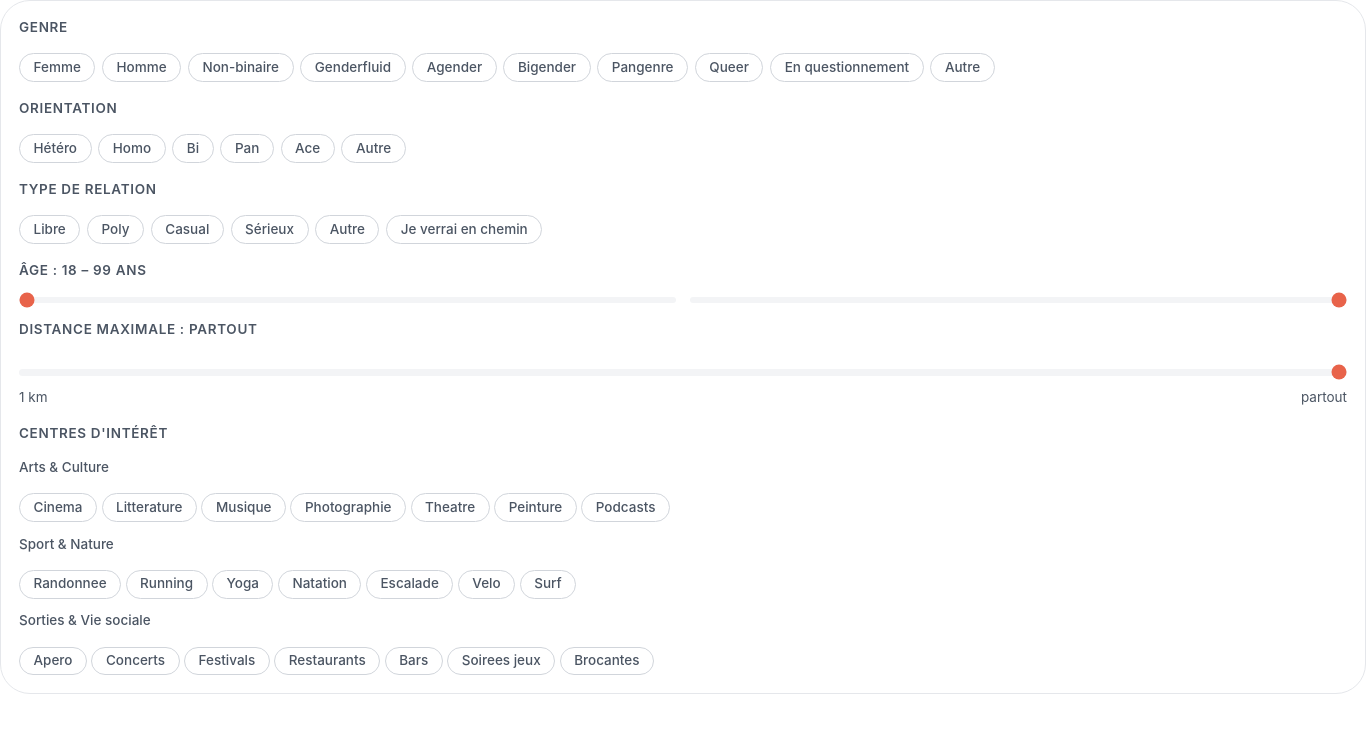
Test: <SearchFilters /> — réciprocité (#519) › la pose fusionne les critères pendus aux critères posés, sans doublon
Note: Deux critères pendus, la déclaration se fait, le pose fusionne les deux.
Click the button "Femme" at (57, 68), box [19,53,95,82]
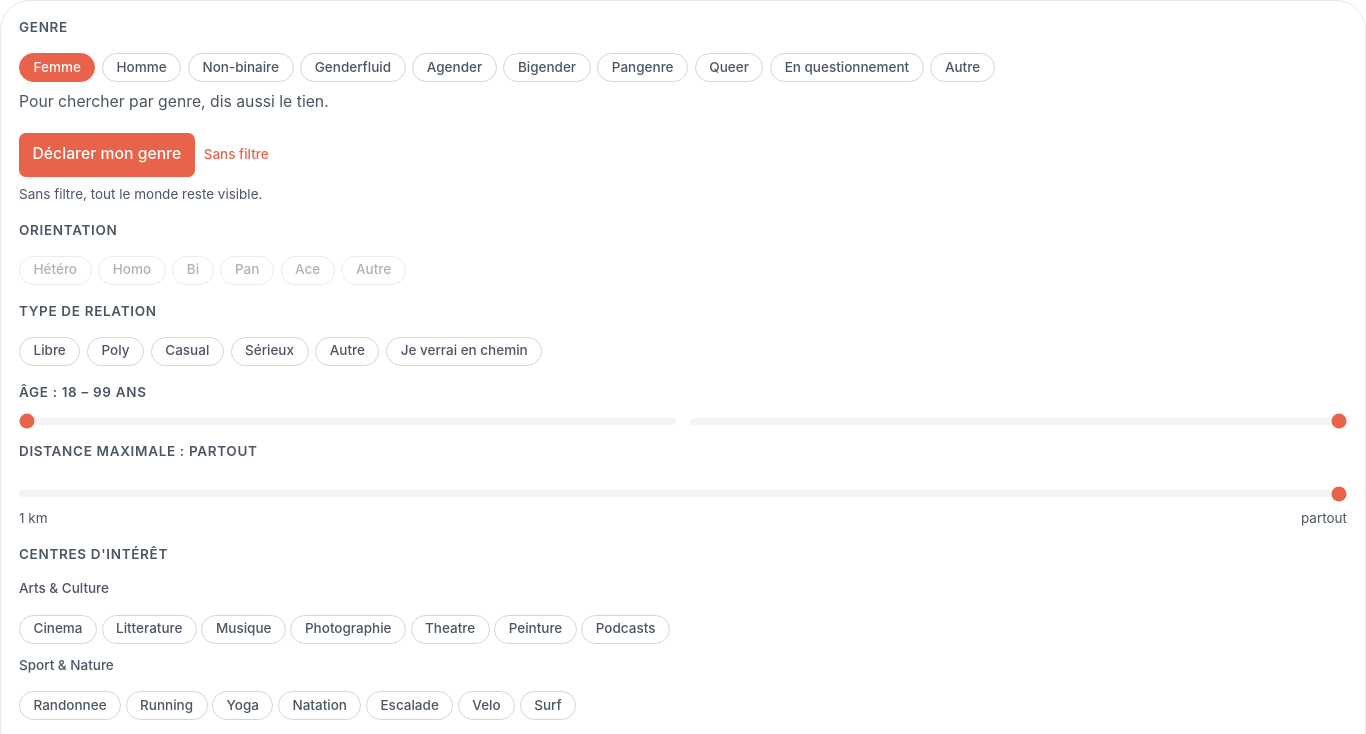
Click the button "Homme" at (142, 68), box [102,53,181,82]
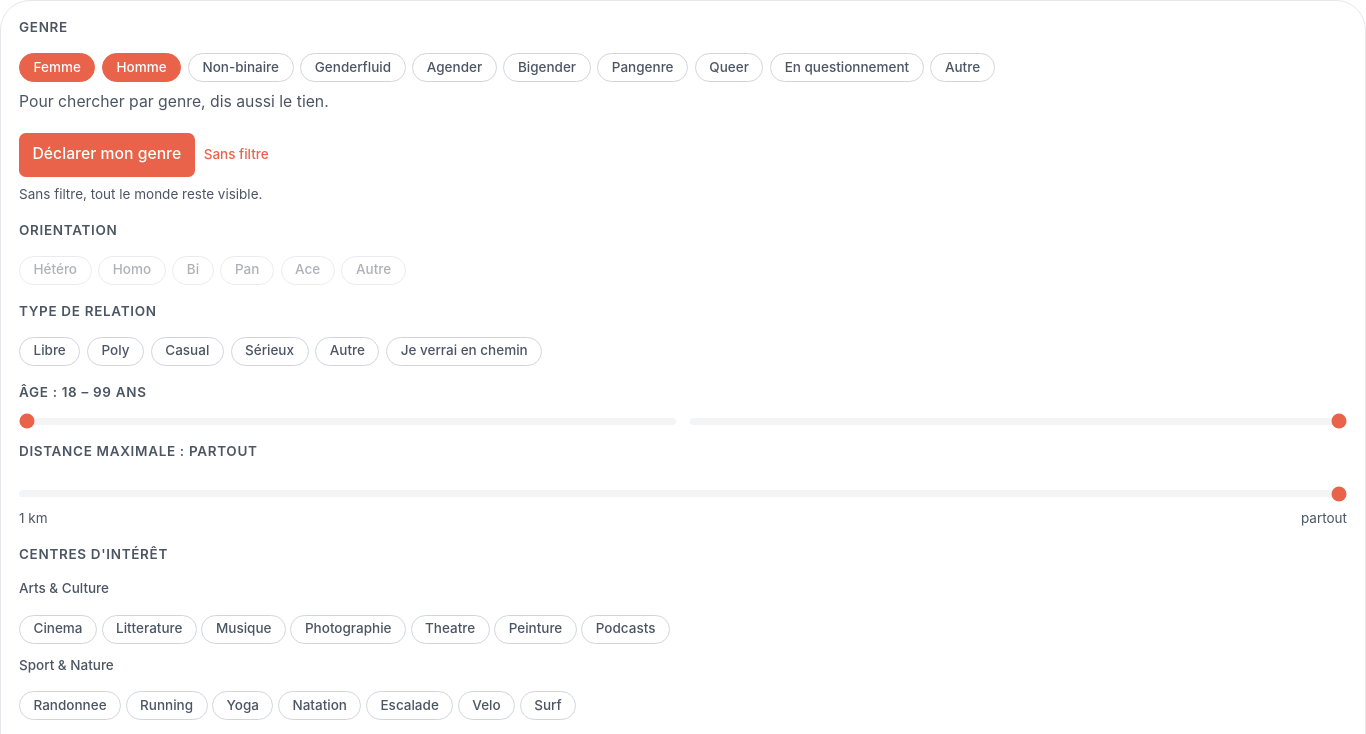
Click the button "Déclarer mon genre" at (107, 154), box [19,132,195,176]
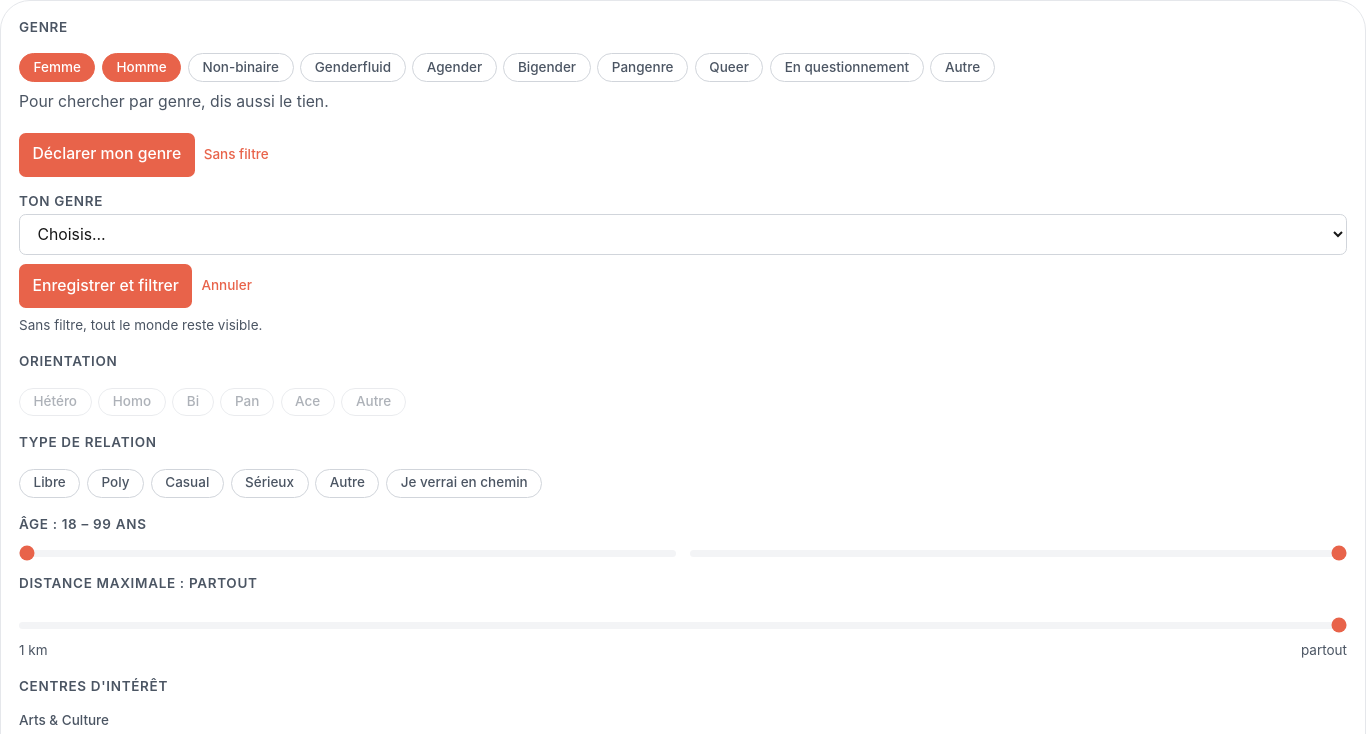
Select "Femme" in the dropdown labelled "Ton genre" at (683, 235), box [19,214,1347,255]
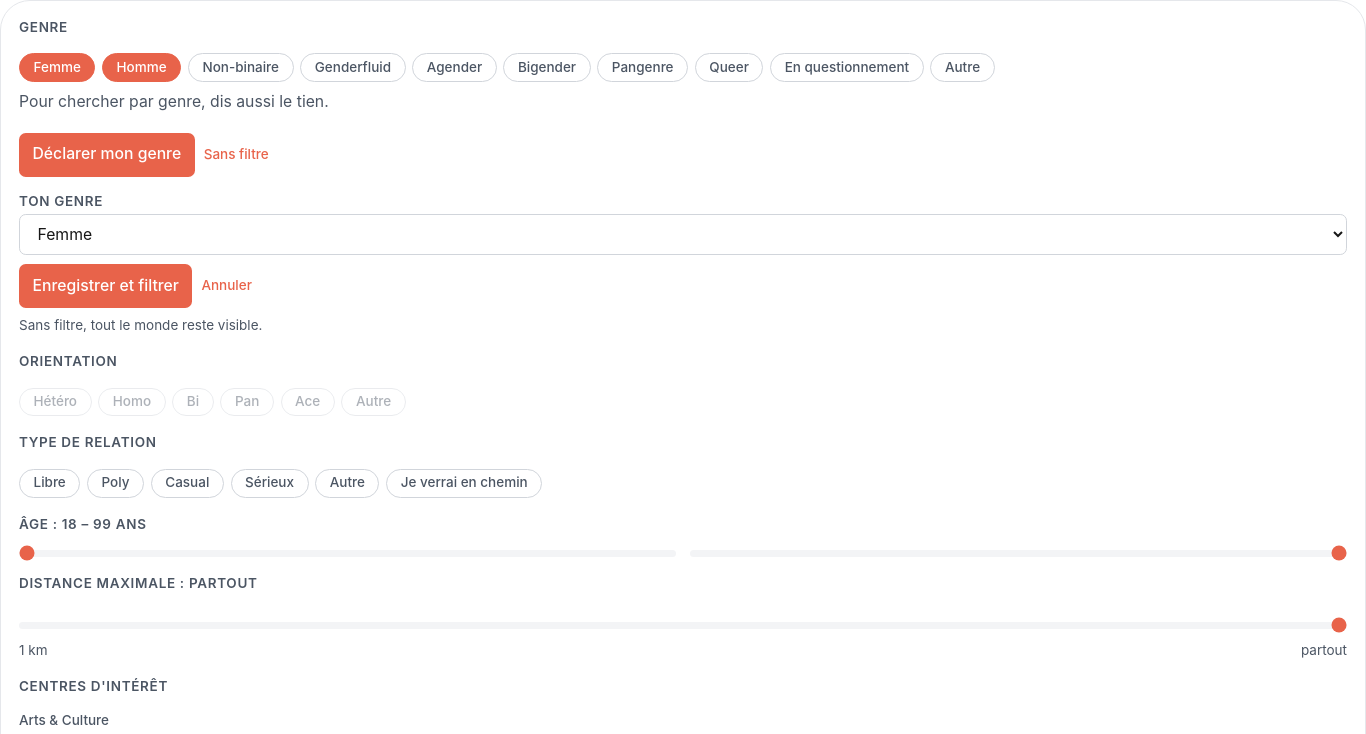
Click the button "Enregistrer et filtrer" at (106, 286), box [19,264,192,308]
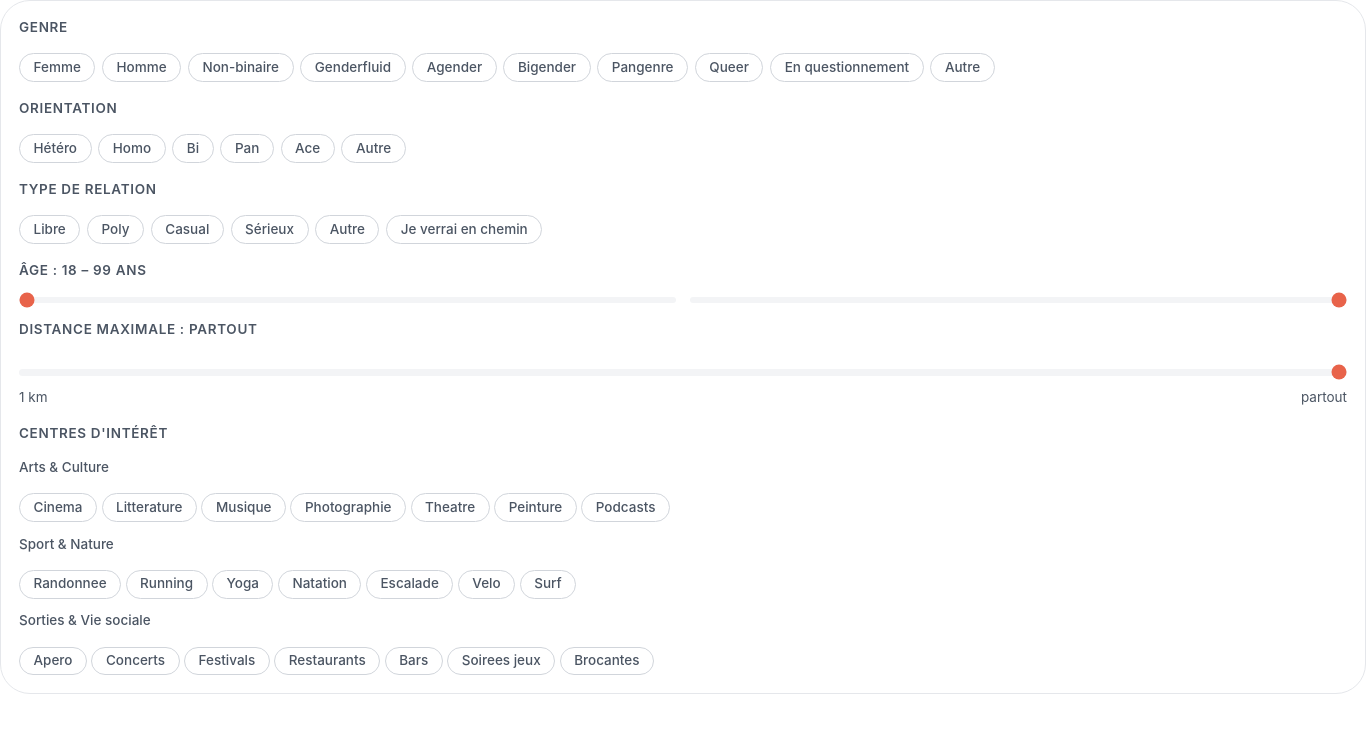
Now the text "Pour chercher par genre, dis aussi le tien." is gone
